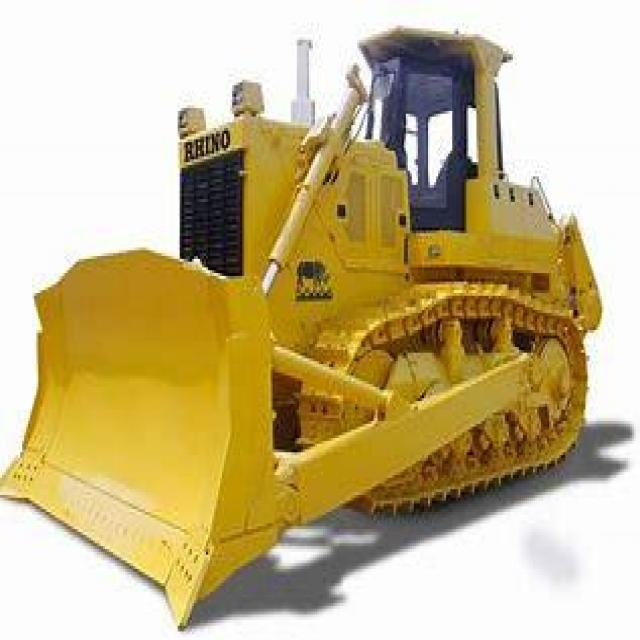Bulldozer: (4, 6, 628, 626)
